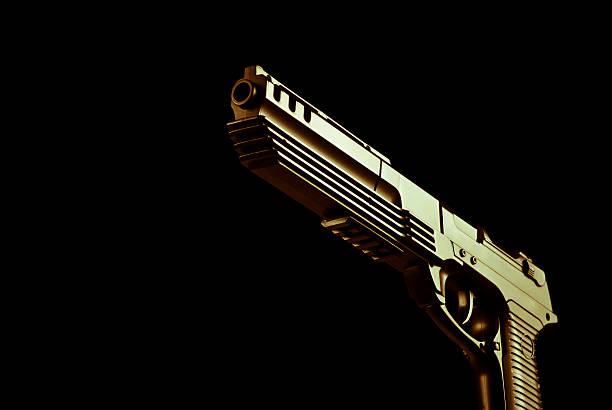weapon: (226, 62, 559, 410)
